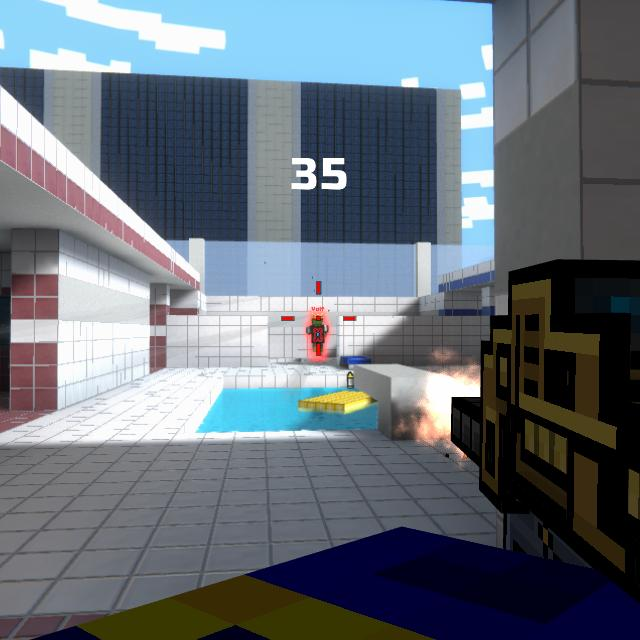Enemy: (305, 313, 329, 353)
